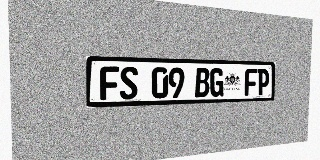0: (151, 67, 168, 99)
9: (168, 67, 184, 98)
B: (195, 68, 210, 97)
F: (100, 66, 119, 100), (244, 69, 257, 96)
G: (210, 68, 224, 97)
P: (257, 69, 269, 95)
S: (120, 66, 138, 100)
